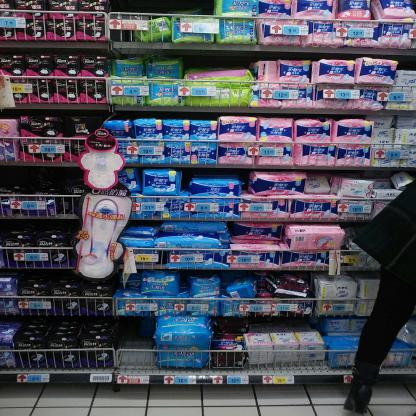Void: (113, 320, 152, 367), (2, 168, 80, 188), (108, 2, 214, 13), (188, 54, 248, 69)
